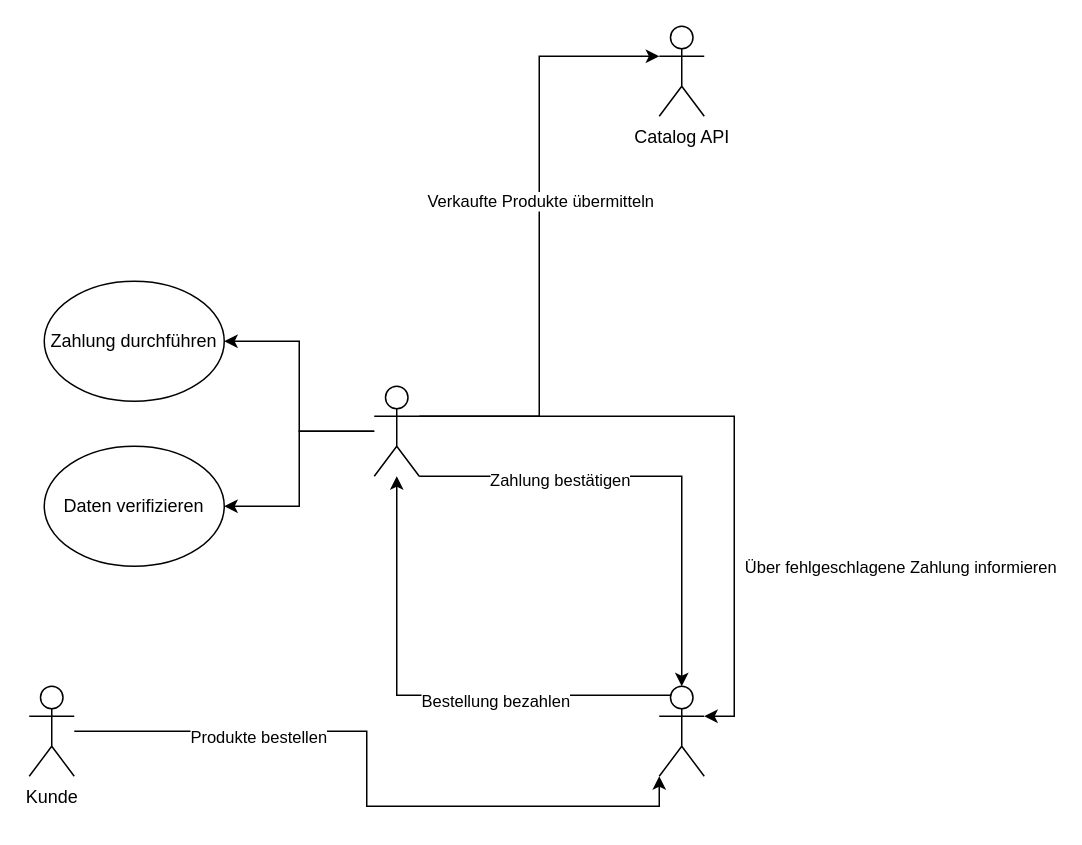
The diagram is 1082 pixels wide and 845 high, and some of its shapes have lost their labels. Each missing label, with the centre of its shape:
Order API: (681,730)
Payment API: (396,430)
